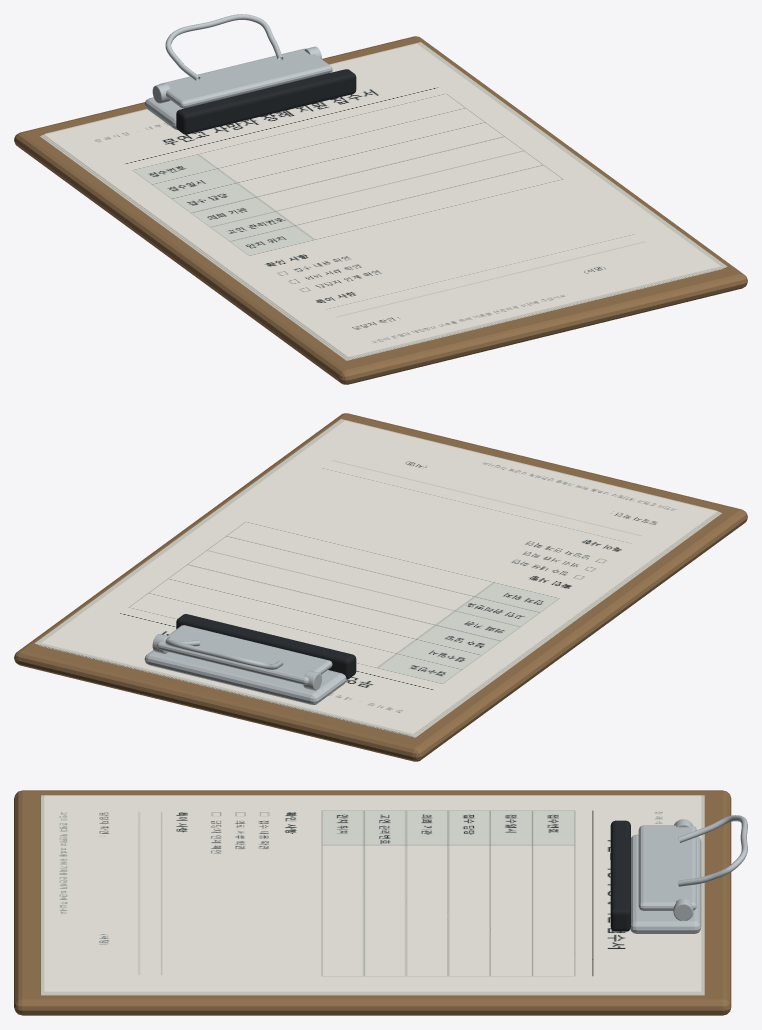
File: Reception_Clipboard.fbx
The picture shows the model from 3 angles, top to bottom: view 1: azimuth 30°, elevation 25°; view 2: azimuth 150°, elevation 25°; view 3: azimuth 270°, elevation 25°; orthographic projection. The views are drawn at different scales.
Parts seen in each view (by area): view 1: Reception_Clipboard; view 2: Reception_Clipboard; view 3: Reception_Clipboard.
Part boxes in pixels (box(x1,y1,x2,y2)): Reception_Clipboard: box(14, 14, 747, 384); Reception_Clipboard: box(14, 413, 747, 761); Reception_Clipboard: box(14, 790, 747, 1015).
Size of the model in its own units: 0.228 by 0.0376 by 0.3284.
Materials: 5 (1 with a texture image).
